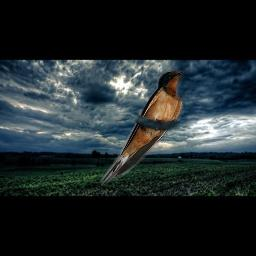Swallow: (97, 68, 187, 185)
